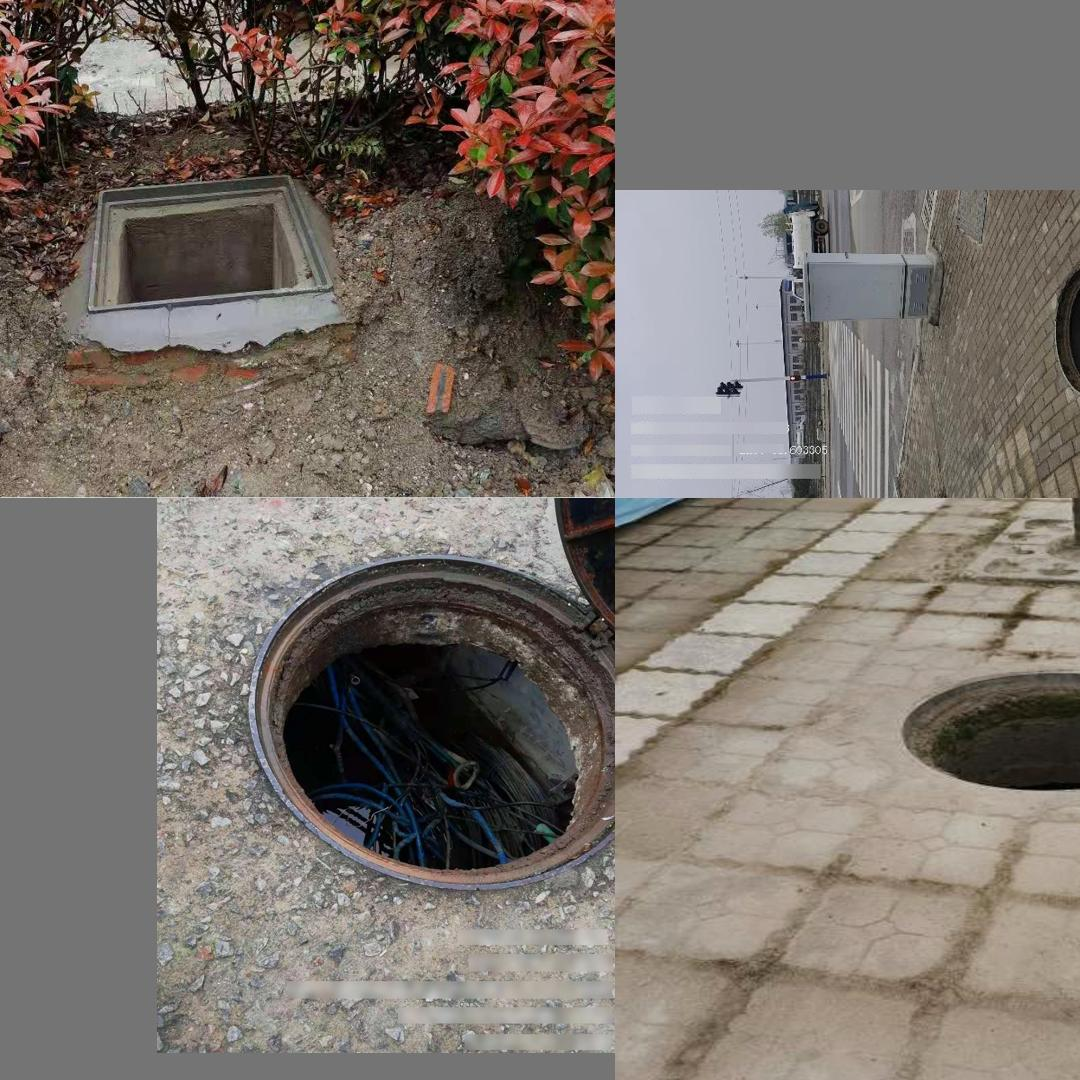lose: (249, 555, 611, 893), (83, 171, 334, 317), (895, 666, 1080, 794), (1054, 264, 1080, 399)
